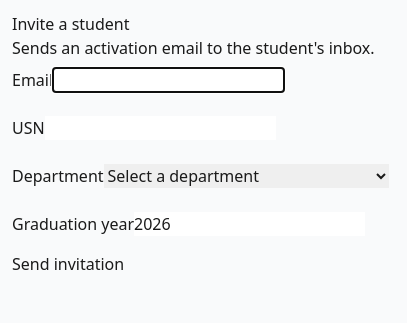
InviteStudent › submits an invitation for a student
This screenshot has width=407, height=323.
In the field labelled "Email": (169, 80) [53,68,284,92], type "student@example.com"
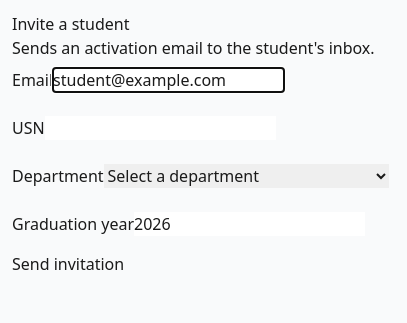
In the field labelled "USN": (160, 128) [45,116,276,140], type "1SM21CS001"
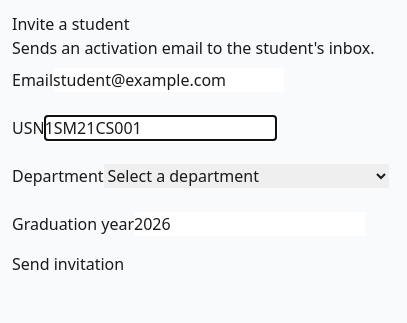
Select "Computer Science and Engineering" in the dropdown labelled "Department": (246, 176) [104,164,389,188]
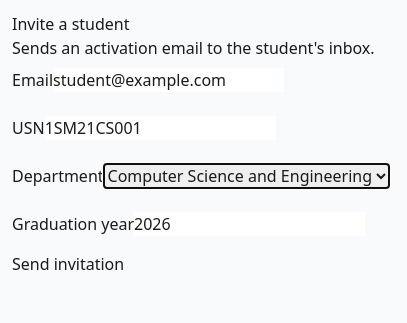
Replace the text in the number field labelled "Graduation year" with "2027": (250, 224) [134,212,365,236]
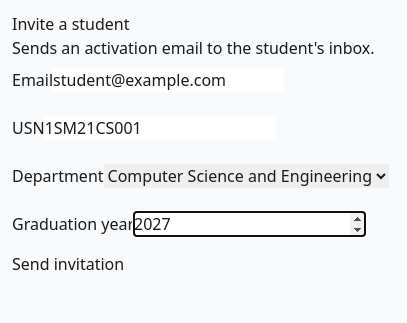
Click the button "Send invitation": (68, 264) [12,252,124,276]
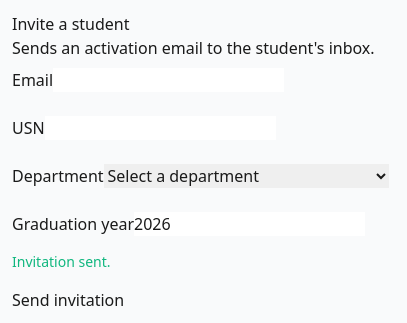
Expected: the text "Invitation sent." is shown, [12,252,110,271]
